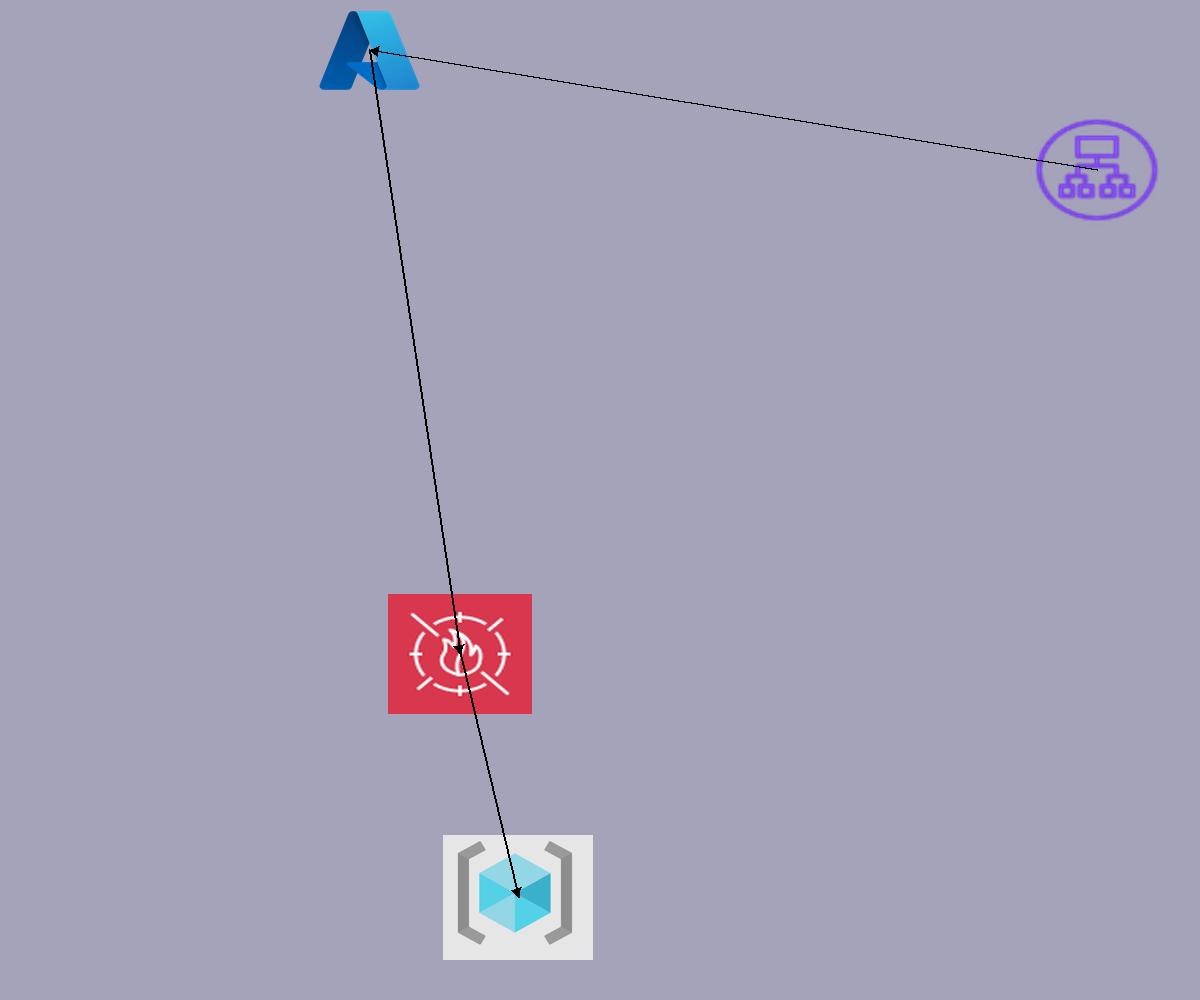AWS-Res_Elastic-Load-Balancing_Application-Load-Balancer: (1031, 115, 1163, 225)
AWS-WAF: (388, 594, 532, 714)
Azure_resource_group: (443, 835, 593, 960)
Azure_services: (315, 5, 424, 96)
